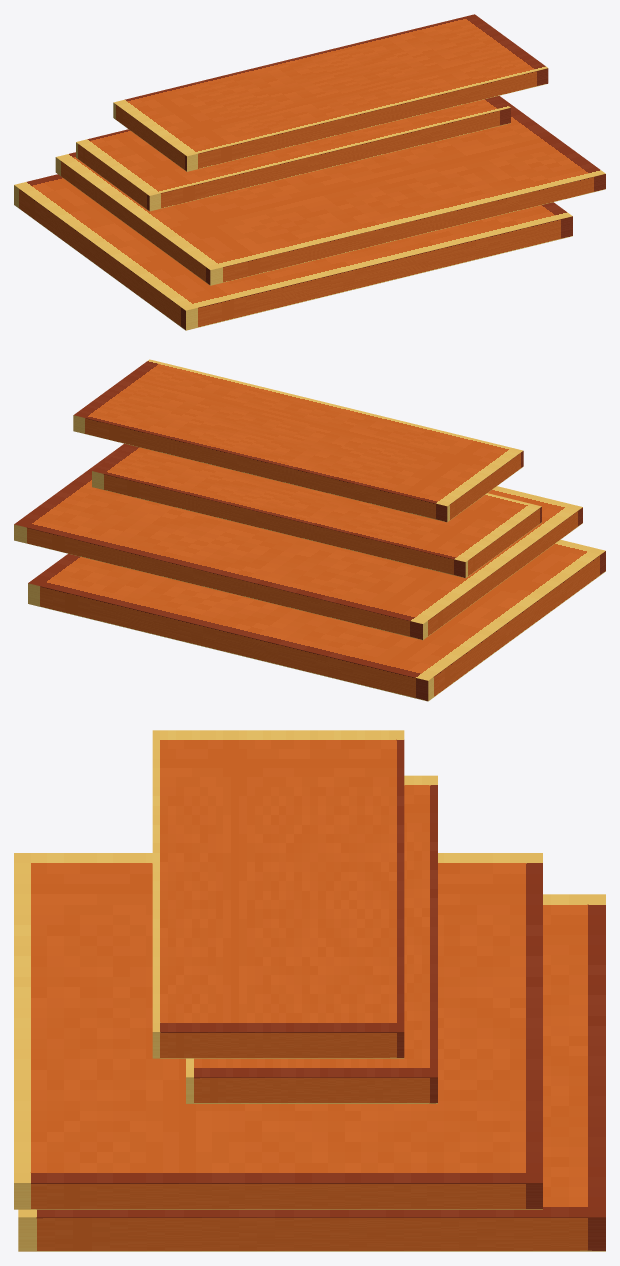
File: bench_helmet_0_hot.obj
The picture shows the model from 3 angles, top to bottom: view 1: azimuth 30°, elevation 25°; view 2: azimuth 150°, elevation 25°; view 3: azimuth 270°, elevation 25°; orthographic projection. The views are drawn at different scales.
Parts seen in each view (by area): view 1: geometry; view 2: geometry; view 3: geometry.
Part boxes in pixels (x1,y1,x2,y2): geometry: (14, 14, 605, 330); geometry: (14, 359, 605, 701); geometry: (14, 730, 605, 1251).
Bounding box in the file's own units: 0.75 × 0.2322 × 0.5368.
